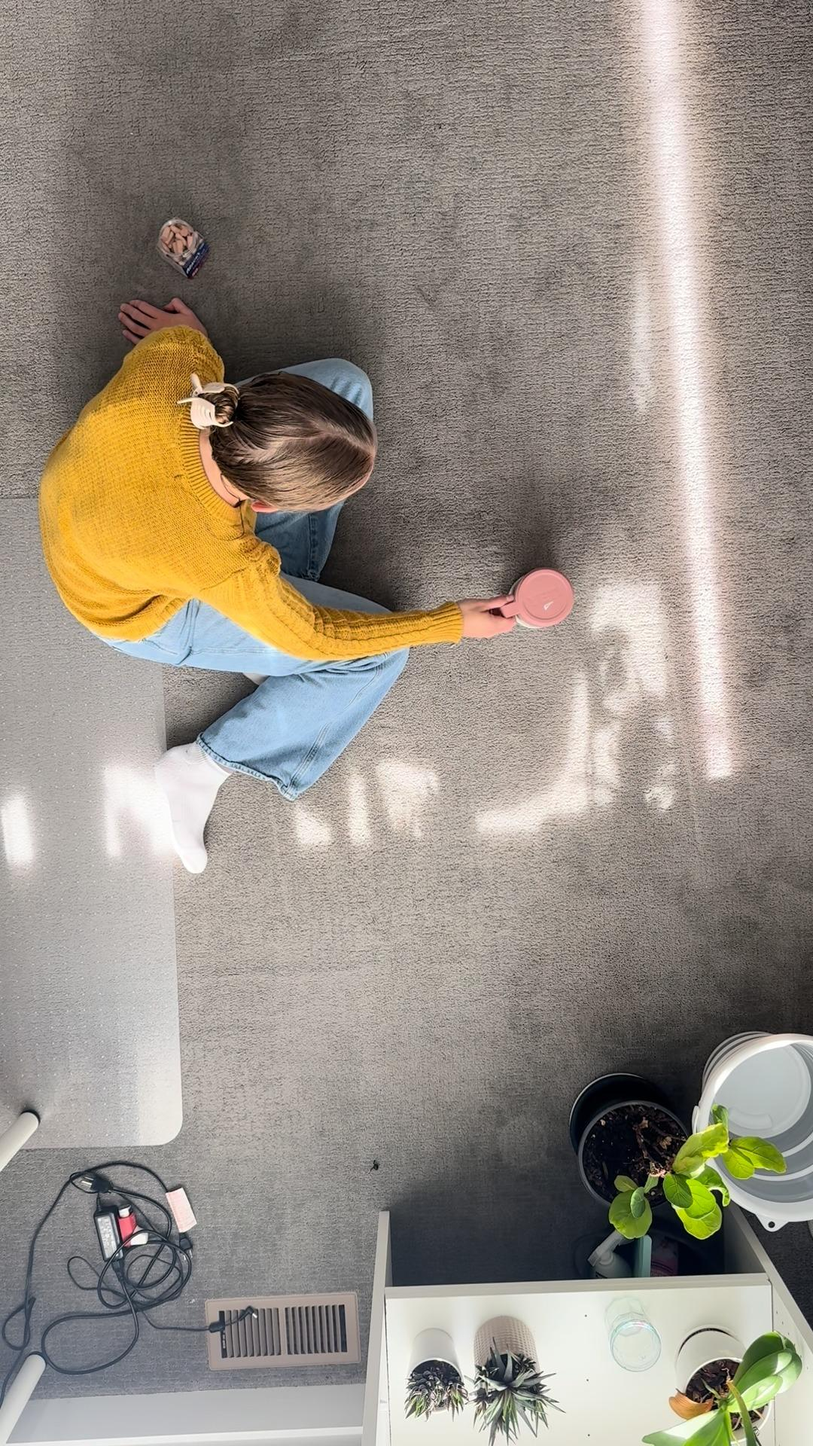IBC: (499, 555, 580, 650)
